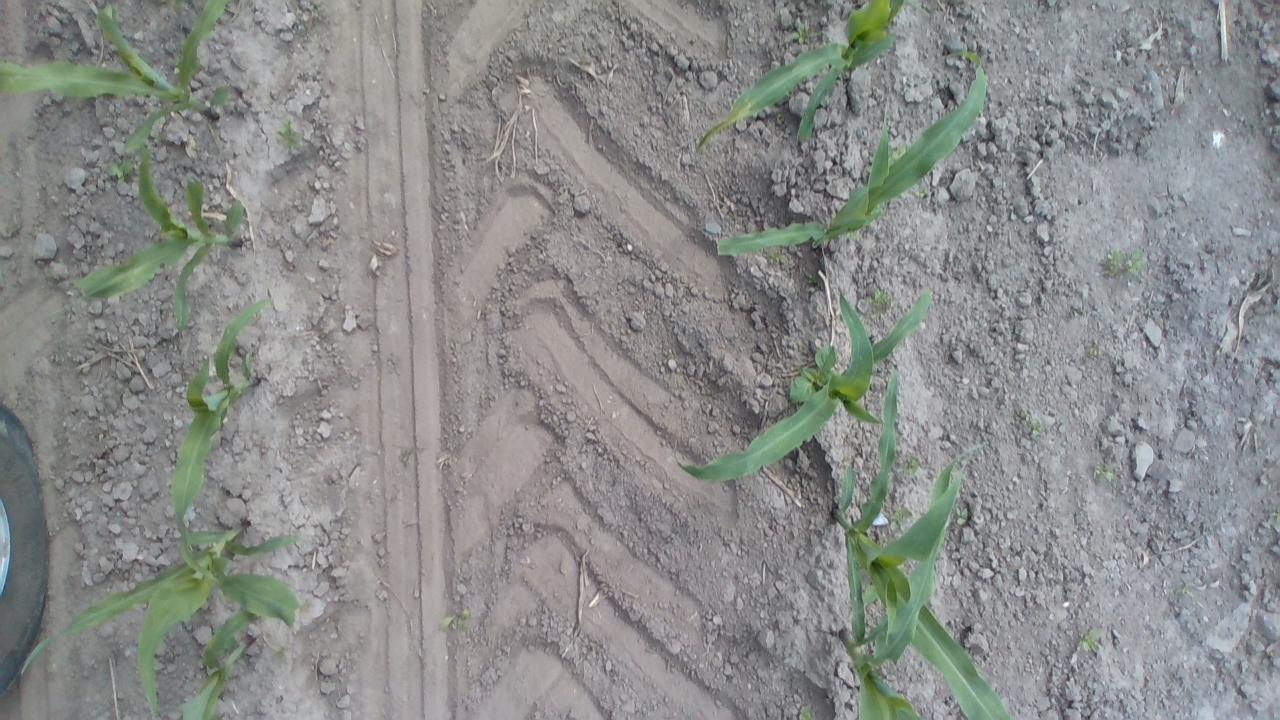Maize: (829, 354, 1018, 720), (706, 52, 988, 264), (16, 524, 318, 720), (676, 278, 941, 488), (836, 442, 980, 720), (0, 0, 236, 164), (691, 0, 910, 157), (73, 145, 250, 339), (168, 288, 278, 545), (173, 601, 267, 720)
Weeds: (1102, 245, 1146, 281), (1013, 401, 1045, 446), (434, 604, 476, 638), (276, 118, 308, 156), (103, 154, 135, 191), (886, 500, 918, 534), (1084, 457, 1121, 485), (1080, 626, 1106, 660), (862, 289, 898, 313), (789, 23, 819, 46), (898, 450, 918, 481), (794, 701, 819, 720), (1082, 338, 1100, 358), (762, 250, 784, 266), (954, 507, 970, 528)
